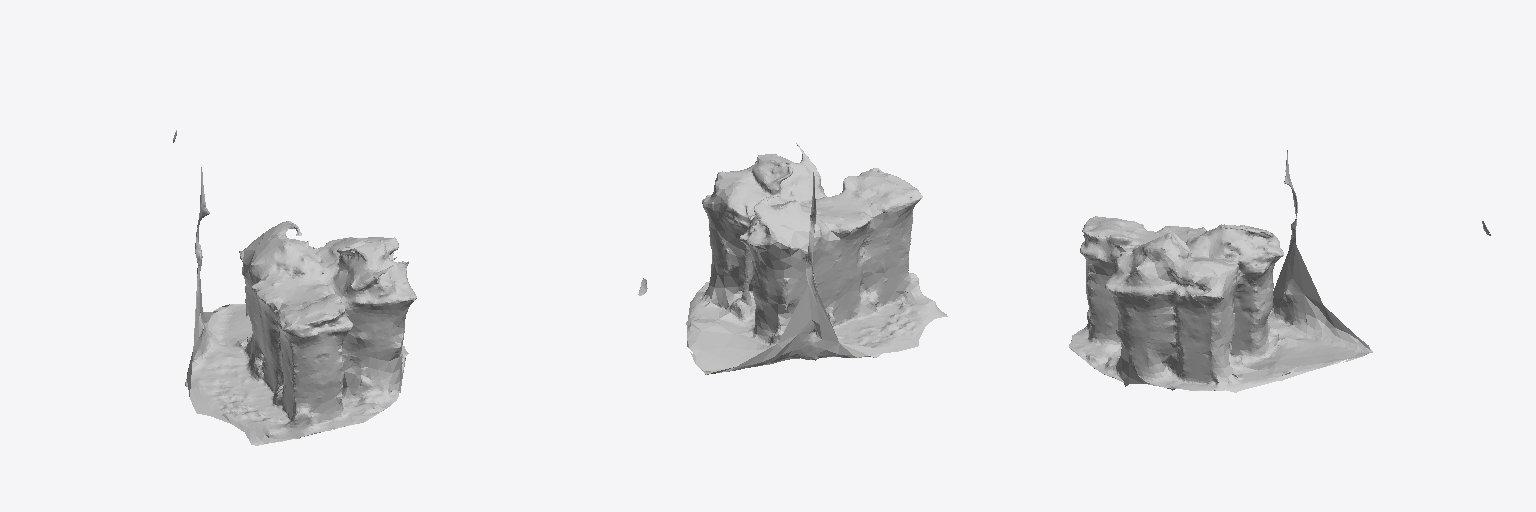
The model's file is trash13.obj.
3 renders of one model, left to right at view 1: azimuth 30°, elevation 25°; view 2: azimuth 150°, elevation 25°; view 3: azimuth 270°, elevation 25°, orthographic.
Parts seen in each view (by area): view 1: mesh; view 2: mesh; view 3: mesh.
Part boxes in pixels (bbox=[...]): mesh: bbox=[173, 130, 416, 445]; mesh: bbox=[638, 143, 947, 374]; mesh: bbox=[1069, 150, 1490, 392].
Bounding box in the file's own units: 2.29 × 2.13 × 3.98.